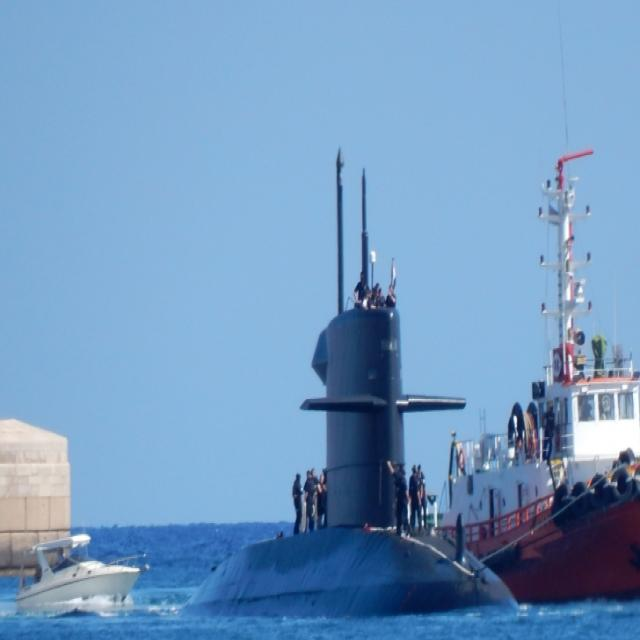submarine: (167, 141, 523, 619)
